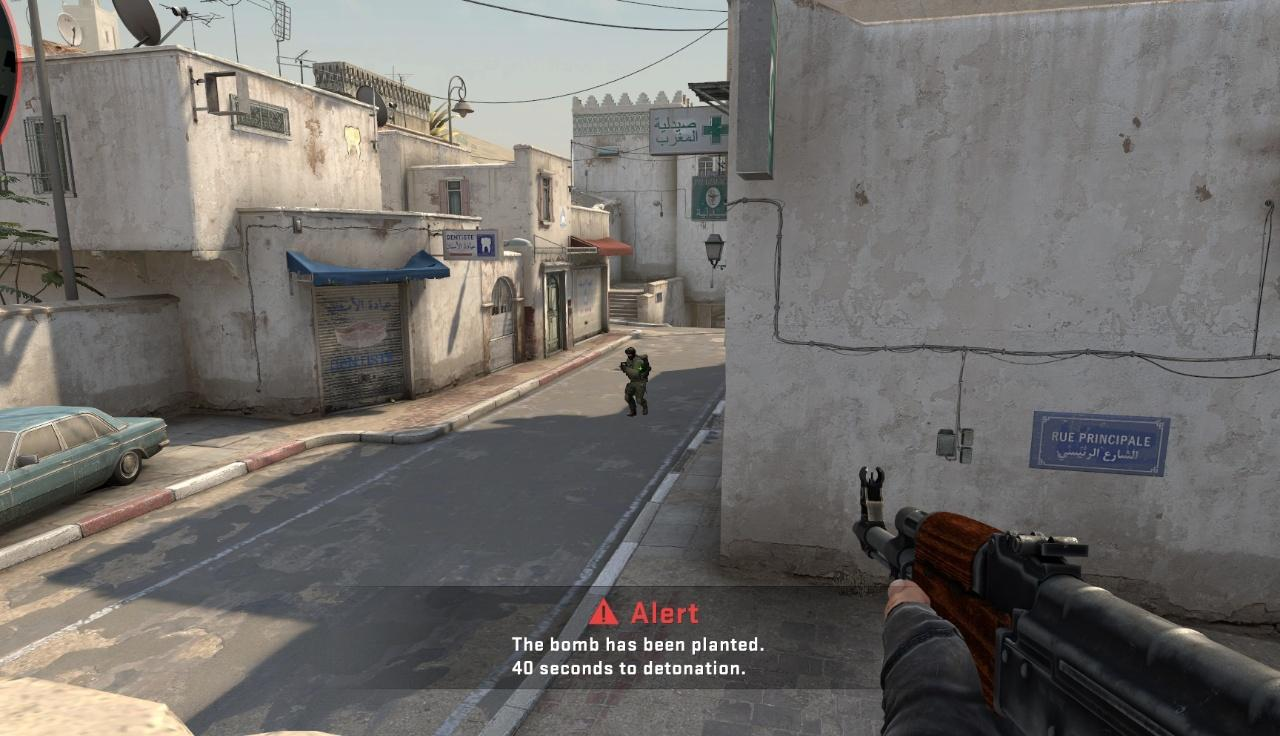ct: (624, 347, 647, 417)
cthead: (626, 347, 635, 359)
rifle: (854, 464, 1280, 736)
